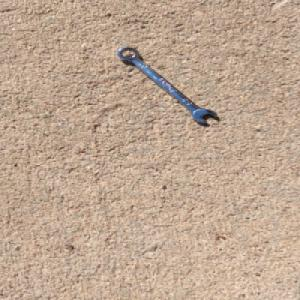Wrench: (114, 46, 219, 124)
